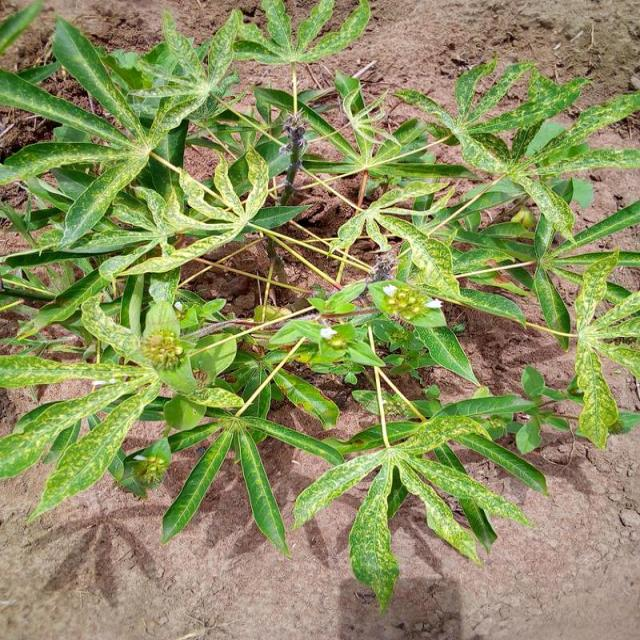cassava leaf: (2, 2, 639, 613)
